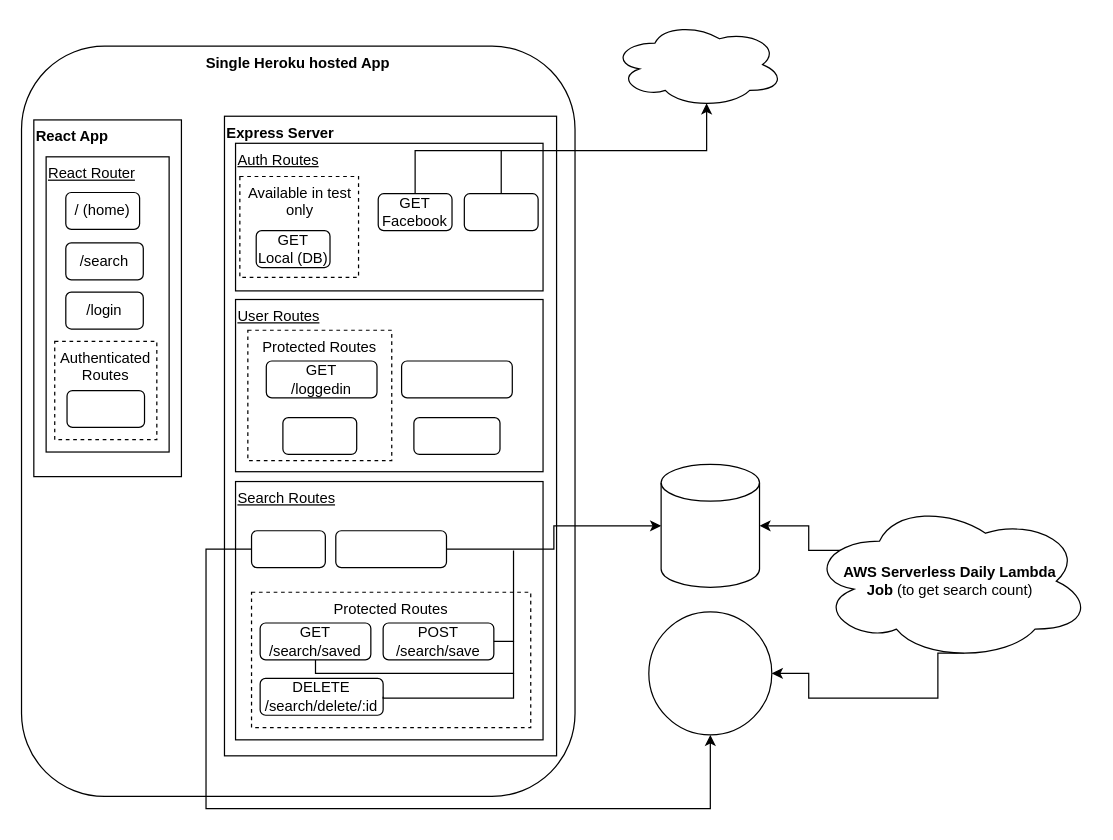
Image size: 1113x840. Some labels were removed from this diagram. Here are the shapes that lost their labels. From the top down, the centre of each, then its label:
At point 697,64: "3rd Party Auth Providers".
At point 500,211: "GET Google".
At point 456,379: "GET /loginfailure".
At point 105,408: "/profile".
At point 319,435: "GET /logout".
At point 456,435: "GET /isloggedin".
At point 710,525: "MongoDB".
At point 287,549: "GET /search".
At point 390,549: "GET /search/trending".
At point 710,673: "Reed.co.uk Jobs API".
